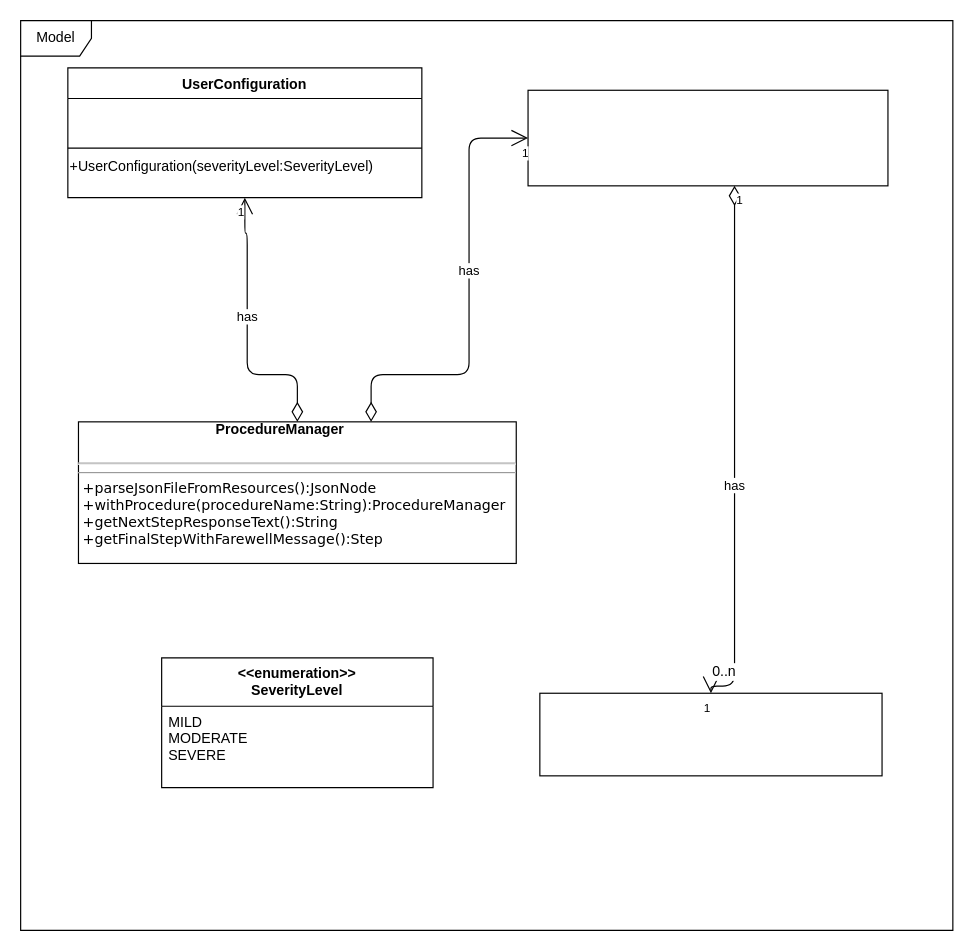
The diagram is 973 pixels wide and 951 high, and some of its shapes have lost their labels. Here are the shapes that lost their labels. From the top down, the centre of each, then its label:
(707,137): Procedure +addStep(newStep:Step):boolean +getStep(index:int):Step
(710,734): Step +getResponseFormatted(level:SeverityLevel):String
